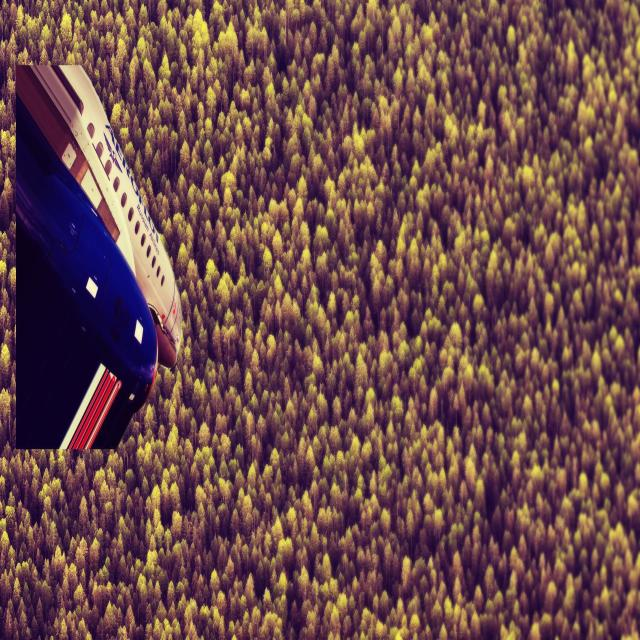airplane: (14, 61, 183, 452)
